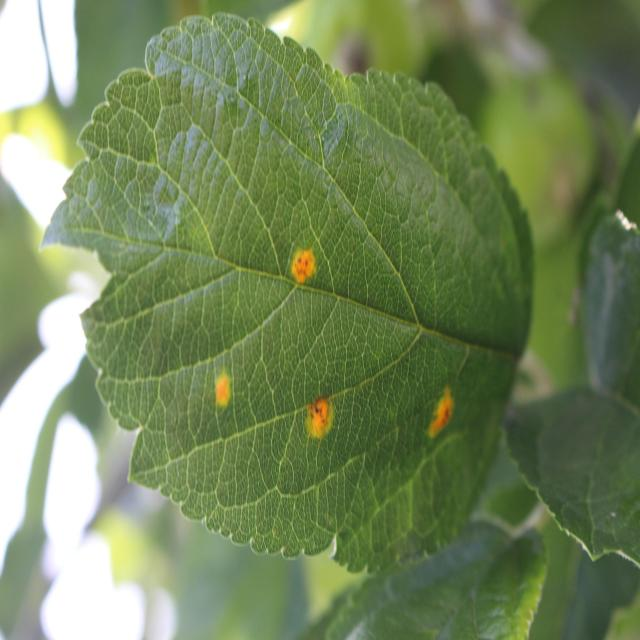rust: (37, 12, 537, 581)
